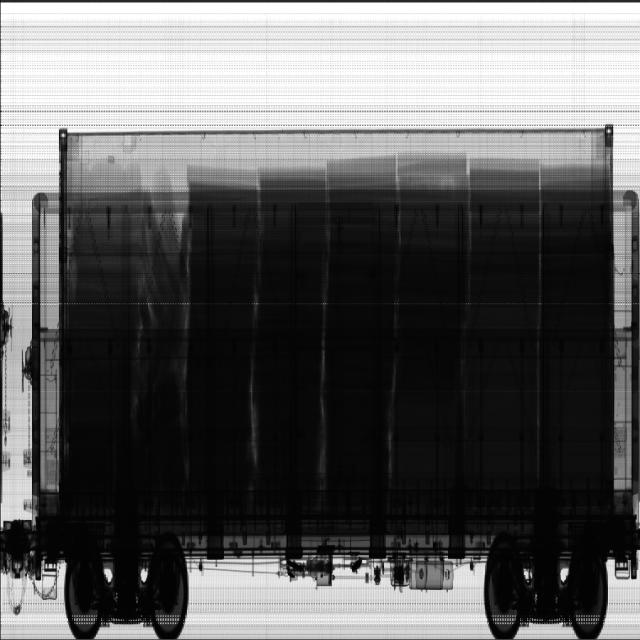fabrics: (68, 152, 609, 508)
